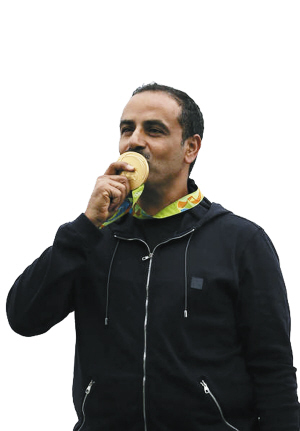face: (118, 92, 181, 189)
